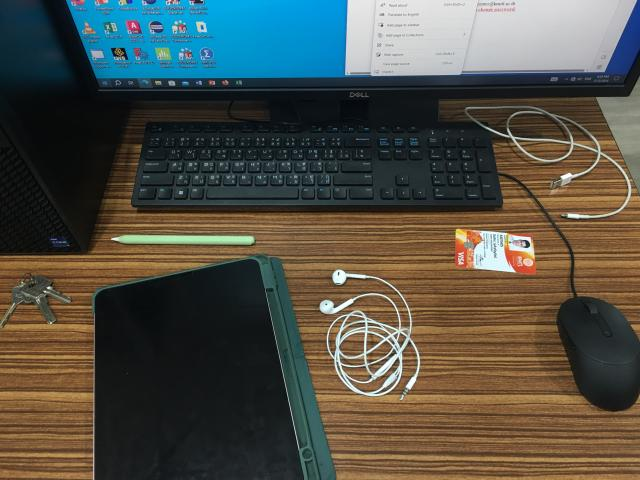Keys: (0, 277, 69, 332)
Mouse: (556, 296, 640, 414)
wire: (467, 104, 635, 221), (320, 267, 422, 399)
